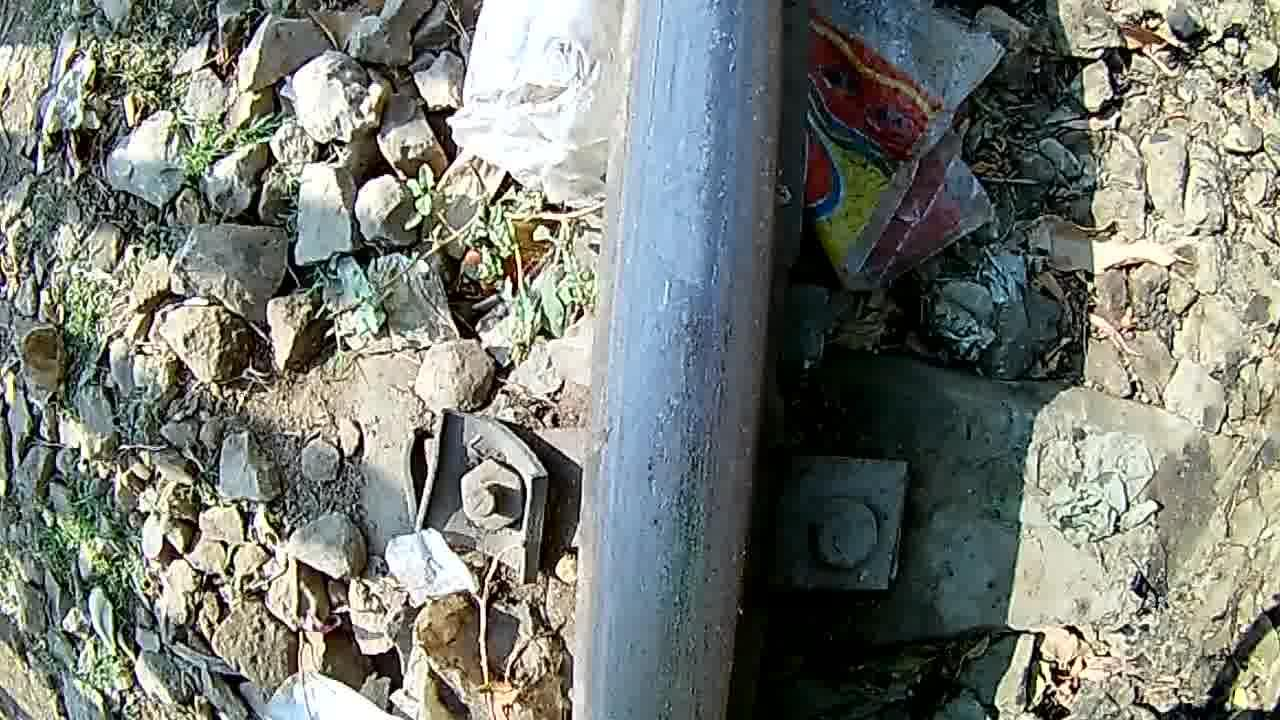clip_missing: (612, 1, 766, 719)
